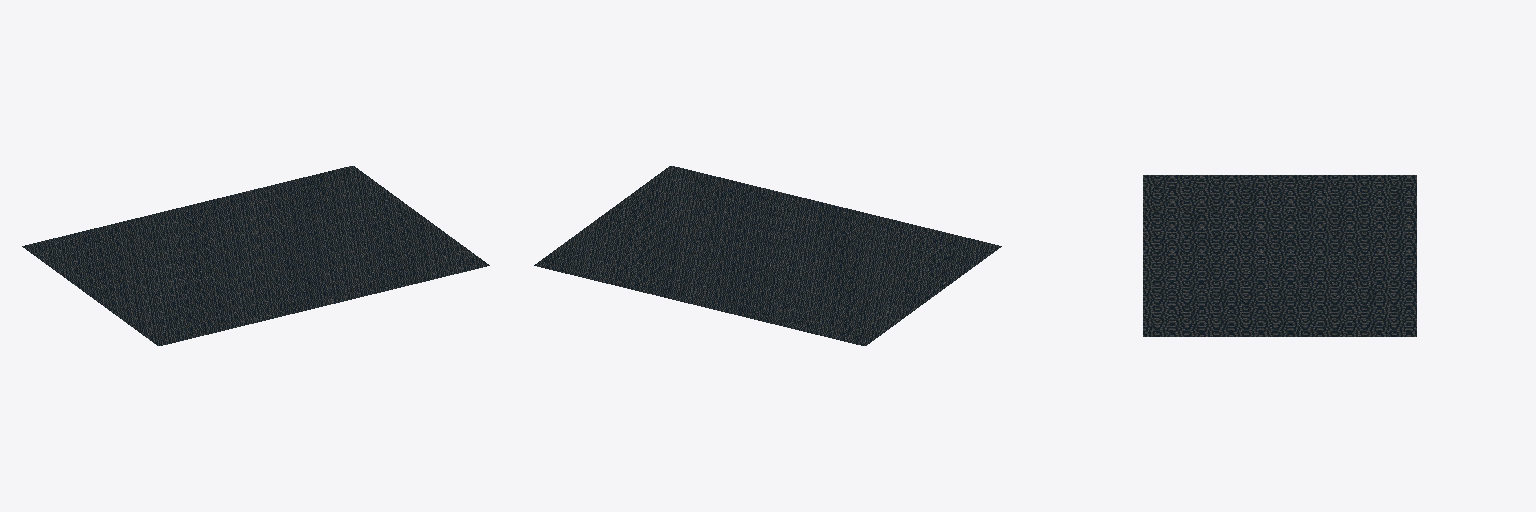
3 views of the same model, side by side, from view 1: azimuth 30°, elevation 25°; view 2: azimuth 150°, elevation 25°; view 3: azimuth 270°, elevation 25° (orthographic).
Bounding box in the file's own units: 3.88 × 0 × 2.78.
Materials: 1 (1 with a texture image).